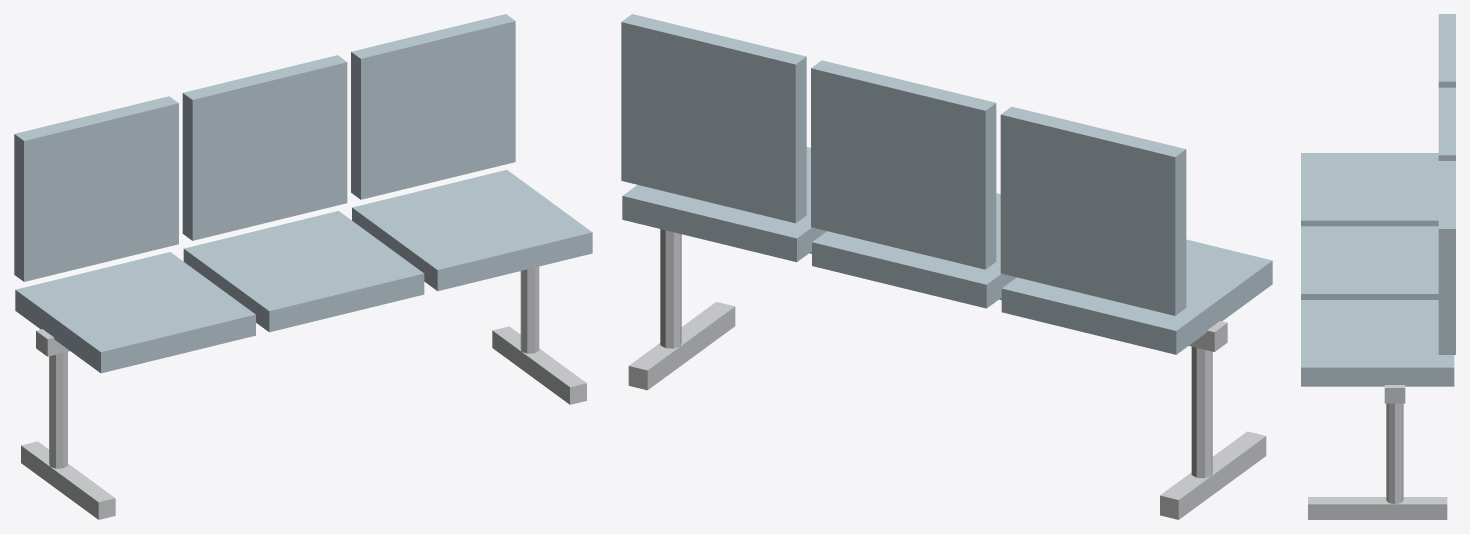
File: bench.glb
3 renders of one model, left to right at view 1: azimuth 30°, elevation 25°; view 2: azimuth 150°, elevation 25°; view 3: azimuth 270°, elevation 25°, orthographic. The views are drawn at different scales.
Parts seen in each view (by area): view 1: bench; view 2: bench; view 3: bench.
Part boxes in pixels (box(x1,y1,x2,y2)): bench: box(14, 14, 592, 519); bench: box(621, 14, 1272, 519); bench: box(1301, 14, 1455, 519).
Bounding box in the file's own units: 1.5 × 0.925 × 0.445.
